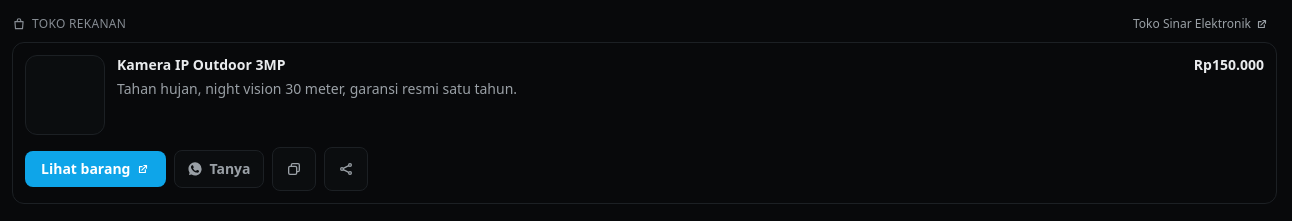
Test case: AffiliateOfferCard — copy and share send the shop URL, never /go › copies offer.product_url and confirms in-card
Click the button named "Salin link". click: (294, 169)
box: [272,147,316,191]
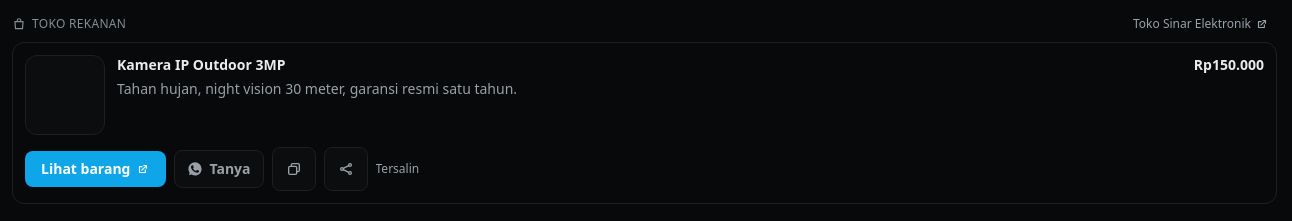
Result: the text "Tersalin" is shown at [376,161,419,177]
